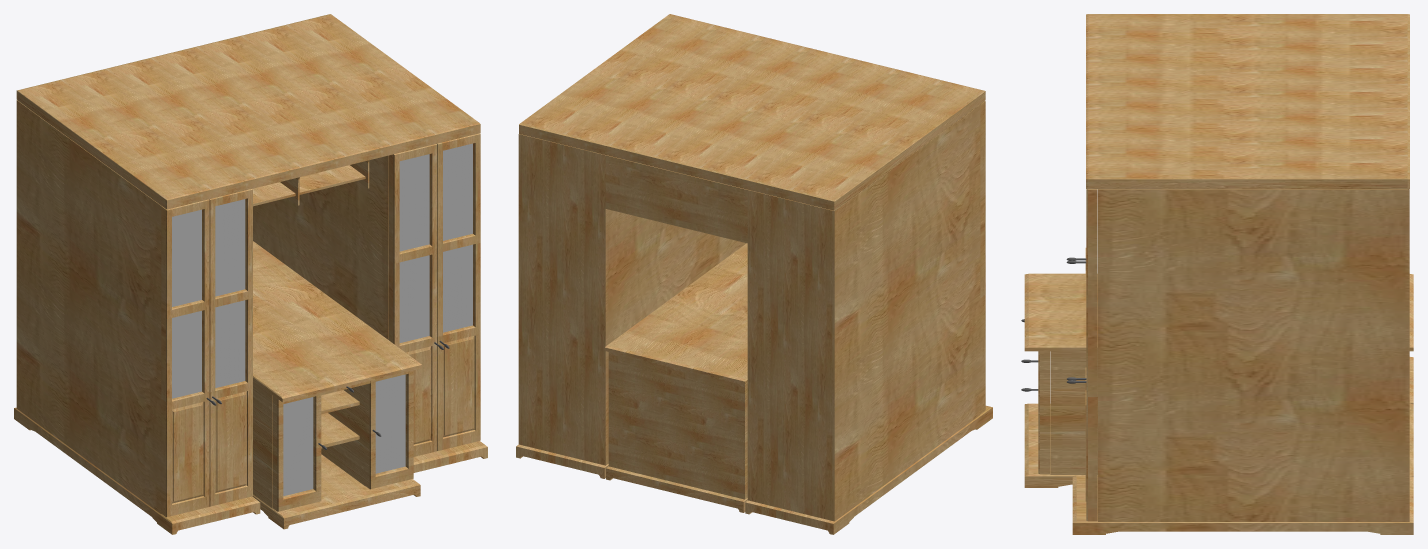
Rendered from sh-scopia-dining-room.glb.
3 renders of one model, left to right at view 1: azimuth 30°, elevation 25°; view 2: azimuth 150°, elevation 25°; view 3: azimuth 270°, elevation 25°, orthographic. The views are drawn at different scales.
Parts seen in each view (by area): view 1: shelves_Cube.008_white_wood_butcherblock_tile, glases_Cube.006_glass.001; view 2: shelves_Cube.008_white_wood_butcherblock_tile; view 3: shelves_Cube.008_white_wood_butcherblock_tile.
Part boxes in pixels (x1,y1,x2,y2): shelves_Cube.008_white_wood_butcherblock_tile: [14, 14, 487, 534]; glases_Cube.006_glass.001: [172, 143, 472, 496]; shelves_Cube.008_white_wood_butcherblock_tile: [516, 14, 992, 534]; shelves_Cube.008_white_wood_butcherblock_tile: [1024, 14, 1413, 534].
Size of the model in its own units: 1 by 1 by 1.
3 materials, 1 textured.
